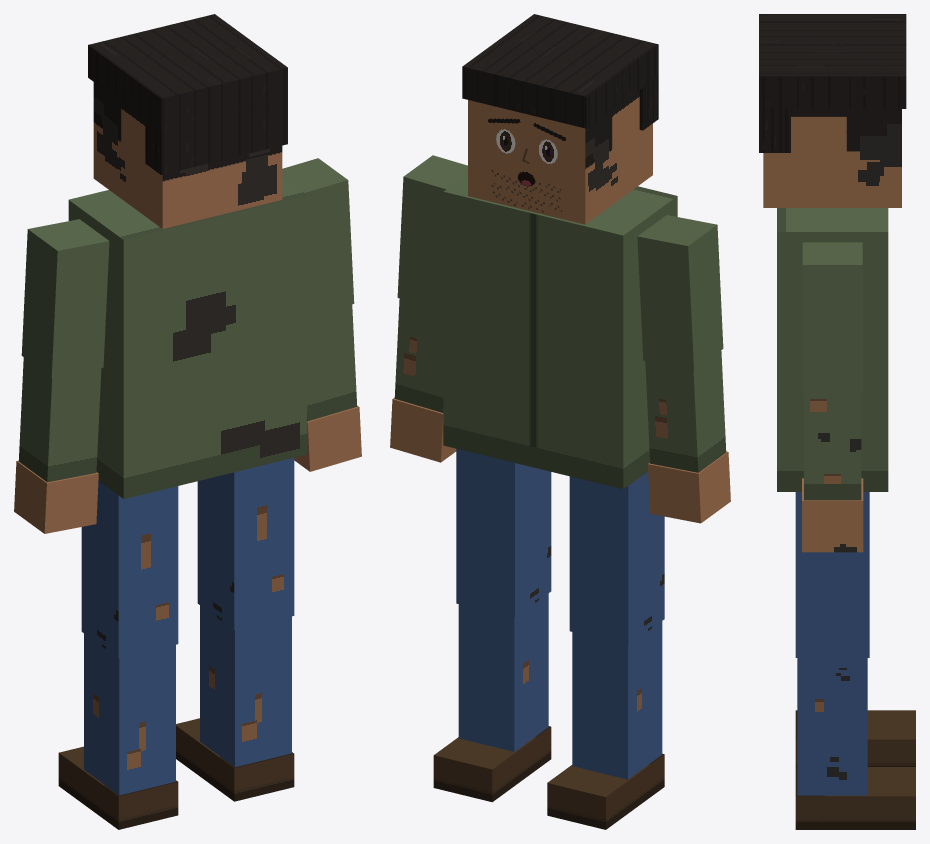
Rendered from mon_civilian_parent.glb.
3 renders of one model, left to right at view 1: azimuth 30°, elevation 25°; view 2: azimuth 150°, elevation 25°; view 3: azimuth 270°, elevation 25°, orthographic. The views are drawn at different scales.
Visible parts, largest first — view 1: block_torso, block_hair-cap, block_thigh.L, block_thigh.R, block_head, block_shin.L, block_shin.R, block_upper_arm.L, block_forearm.L, block_upper_arm.R, block_hair-back, block_forearm.R (+4 smaller); view 2: block_torso, block_head, block_hair-cap, block_thigh.L, block_thigh.R, block_shin.R, block_shin.L, block_upper_arm.L, block_forearm.L, block_upper_arm.R, block_foot.R, block_foot.L (+4 smaller); view 3: block_torso, block_hair-cap, block_head, block_shin.R, block_upper_arm.R, block_thigh.R, block_forearm.R, block_foot.R, block_hand.R, block_foot.L, block_hair-back.
Boxes of the visible parts, x1,y1,x2,y2 form: block_torso: [68, 177, 307, 498]; block_hair-cap: [88, 14, 287, 130]; block_thigh.L: [81, 481, 178, 658]; block_thigh.R: [197, 458, 294, 630]; block_head: [93, 82, 282, 228]; block_shin.L: [84, 633, 175, 795]; block_shin.R: [200, 605, 291, 766]; block_upper_arm.L: [21, 219, 109, 377]; block_forearm.L: [18, 357, 101, 482]; block_upper_arm.R: [282, 158, 354, 317]; block_hair-back: [145, 98, 287, 174]; block_forearm.R: [307, 304, 357, 421]; block_torso: [443, 174, 677, 489]; block_head: [468, 90, 652, 224]; block_hair-cap: [462, 14, 658, 128]; block_thigh.L: [569, 471, 664, 645]; block_thigh.R: [456, 448, 551, 617]; block_shin.R: [458, 593, 548, 751]; block_shin.L: [572, 621, 662, 779]; block_upper_arm.L: [637, 215, 723, 369]; block_forearm.L: [645, 350, 726, 472]; block_upper_arm.R: [397, 155, 467, 311]; block_foot.R: [433, 726, 551, 802]; block_foot.L: [547, 753, 664, 829]; block_torso: [777, 208, 888, 491]; block_hair-cap: [759, 14, 906, 108]; block_head: [763, 109, 901, 207]; block_shin.R: [797, 658, 867, 795]; block_upper_arm.R: [802, 242, 862, 393]; block_thigh.R: [795, 492, 869, 657]; block_forearm.R: [804, 393, 861, 500]; block_foot.R: [795, 767, 915, 829]; block_hand.R: [802, 478, 863, 552]; block_foot.L: [795, 710, 915, 766]; block_hair-back: [759, 106, 790, 152].
Size of the model in its own units: 0.7948 by 1.77 by 0.339.
Materials: 1 (1 with a texture image).
